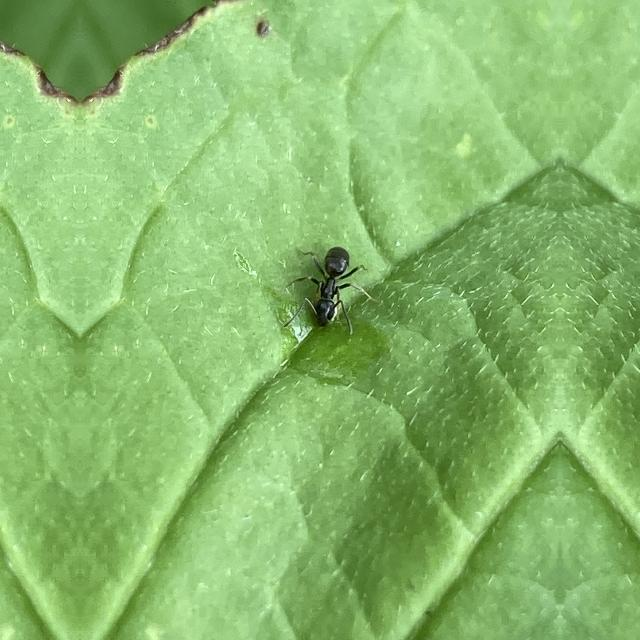Tapinoma: (296, 232, 370, 344)
